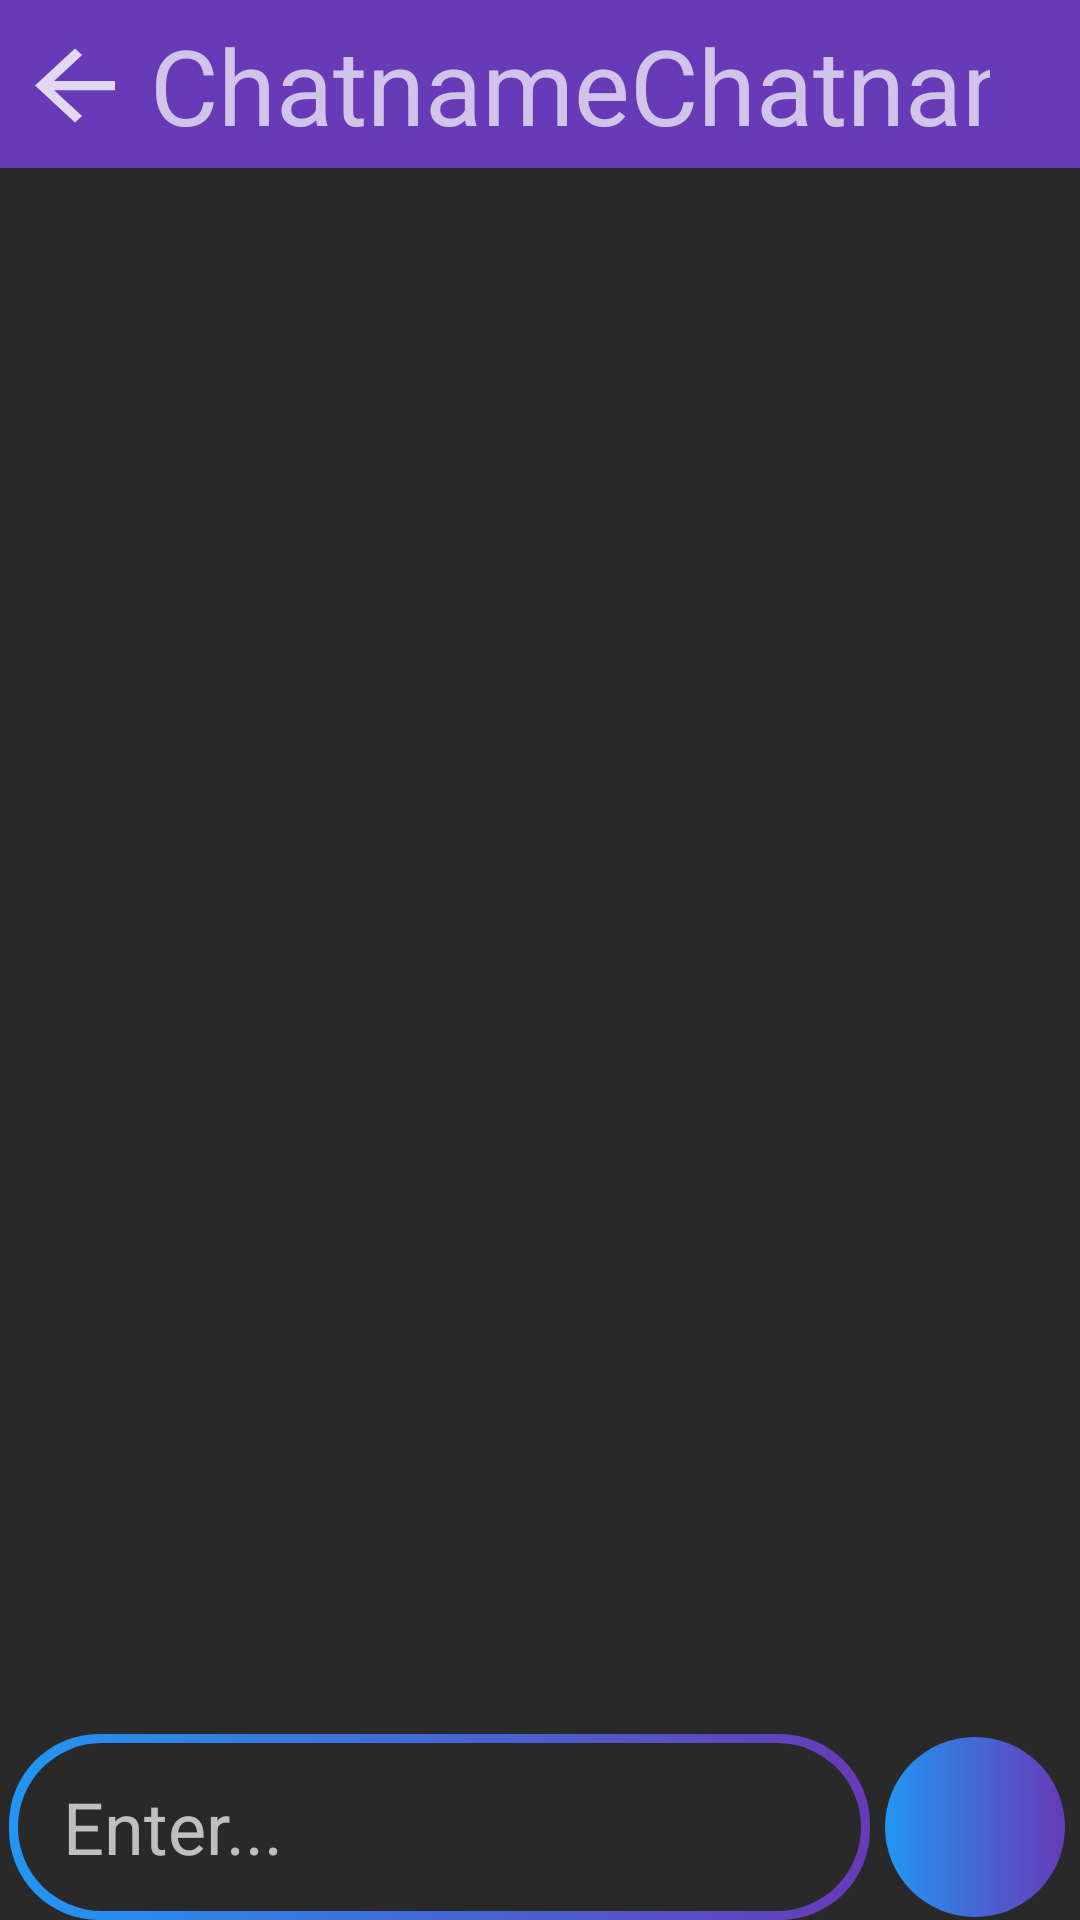

Where to tap for icons on this 1080x1920 app screen, as (x,y):
arrow back: (75,85)
